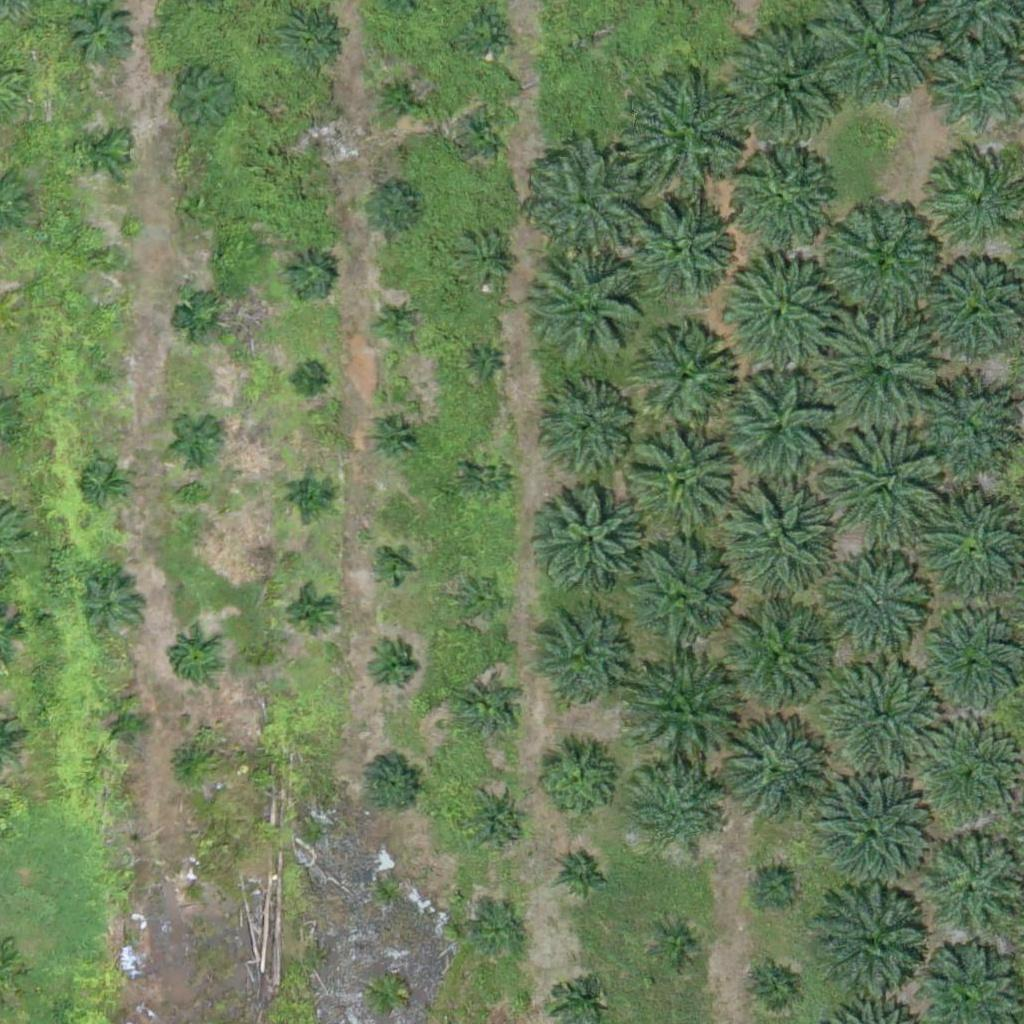Kelapa_Sawit: (627, 73, 752, 199), (817, 306, 942, 432), (819, 196, 944, 322), (714, 474, 839, 600), (821, 422, 946, 548), (729, 27, 842, 141), (829, 659, 942, 773), (719, 254, 832, 367), (718, 371, 831, 484), (715, 715, 828, 828), (907, 715, 1020, 828), (721, 603, 833, 717), (629, 659, 741, 773), (625, 543, 737, 657), (628, 426, 740, 540), (528, 146, 640, 259), (537, 252, 649, 365), (817, 781, 929, 894), (817, 893, 929, 1006), (630, 196, 730, 297), (636, 324, 736, 425), (920, 620, 1020, 721), (832, 560, 932, 661), (923, 261, 1023, 361), (908, 384, 1008, 484), (729, 145, 829, 245), (541, 490, 641, 590), (529, 616, 629, 716), (531, 739, 618, 827), (546, 386, 633, 474), (631, 766, 718, 854), (163, 61, 238, 136), (466, 791, 529, 854), (80, 574, 143, 637), (361, 750, 424, 813), (361, 178, 424, 241), (460, 681, 522, 744), (279, 9, 341, 72), (554, 843, 616, 906), (283, 587, 333, 638), (367, 641, 417, 692), (460, 235, 510, 286), (76, 123, 126, 174), (283, 248, 333, 299), (376, 70, 426, 121), (101, 700, 151, 751), (163, 735, 213, 786), (473, 910, 523, 960), (465, 453, 515, 503), (285, 470, 335, 520), (173, 415, 223, 465), (80, 458, 130, 508), (168, 633, 218, 683), (175, 295, 225, 345), (652, 921, 702, 971), (460, 108, 510, 158), (459, 9, 509, 59), (371, 298, 421, 348), (454, 572, 504, 622), (370, 412, 420, 462), (749, 862, 799, 912), (750, 965, 800, 1015), (183, 191, 221, 229), (374, 547, 412, 585), (306, 124, 331, 149), (472, 353, 497, 378), (295, 367, 320, 392), (94, 360, 119, 385), (94, 244, 119, 269), (178, 878, 203, 903)
